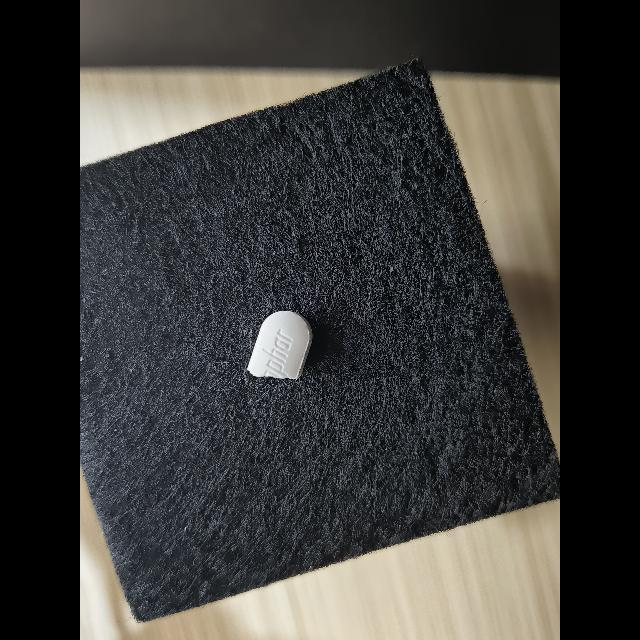Chipped Pill: (247, 311, 313, 380)
